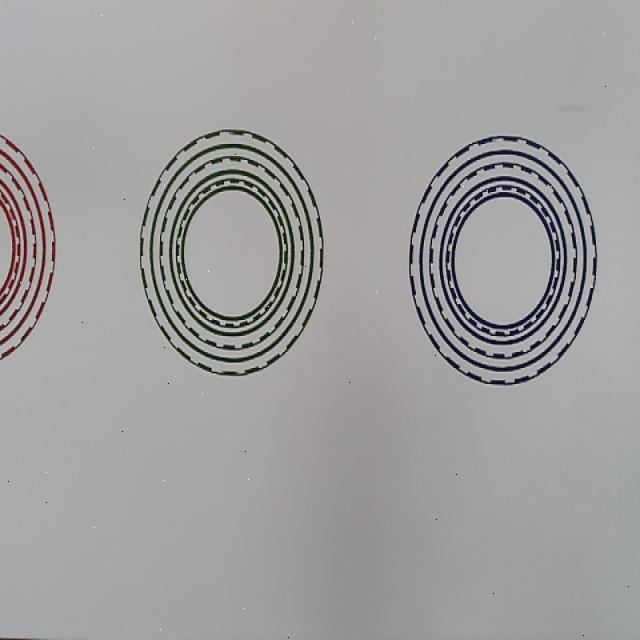b: (409, 135, 597, 386)
g: (139, 129, 324, 376)
